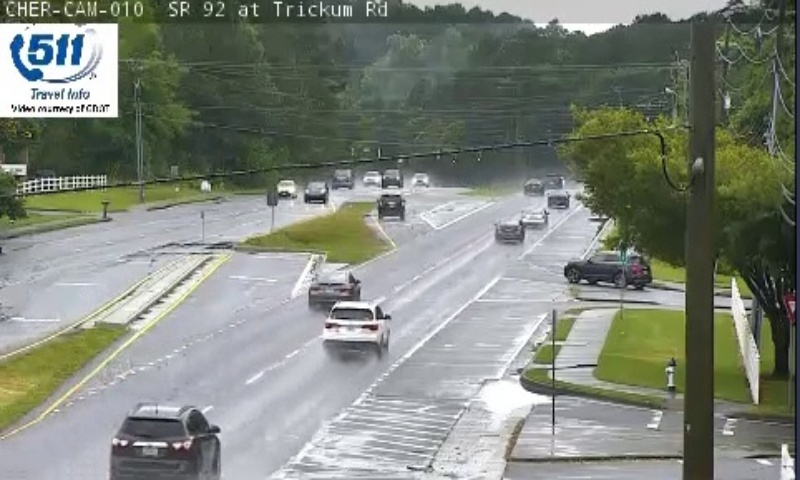car: (111, 402, 222, 480), (321, 299, 388, 353), (310, 270, 360, 308), (376, 193, 404, 220), (494, 220, 524, 243), (519, 205, 547, 229)
